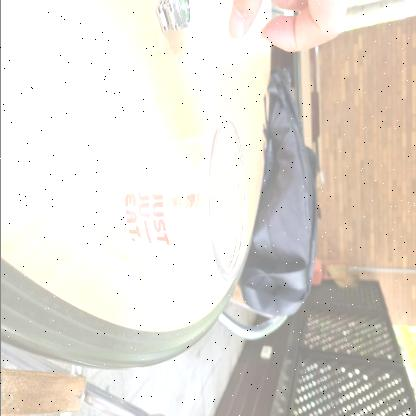Others: (90, 112, 254, 286)
